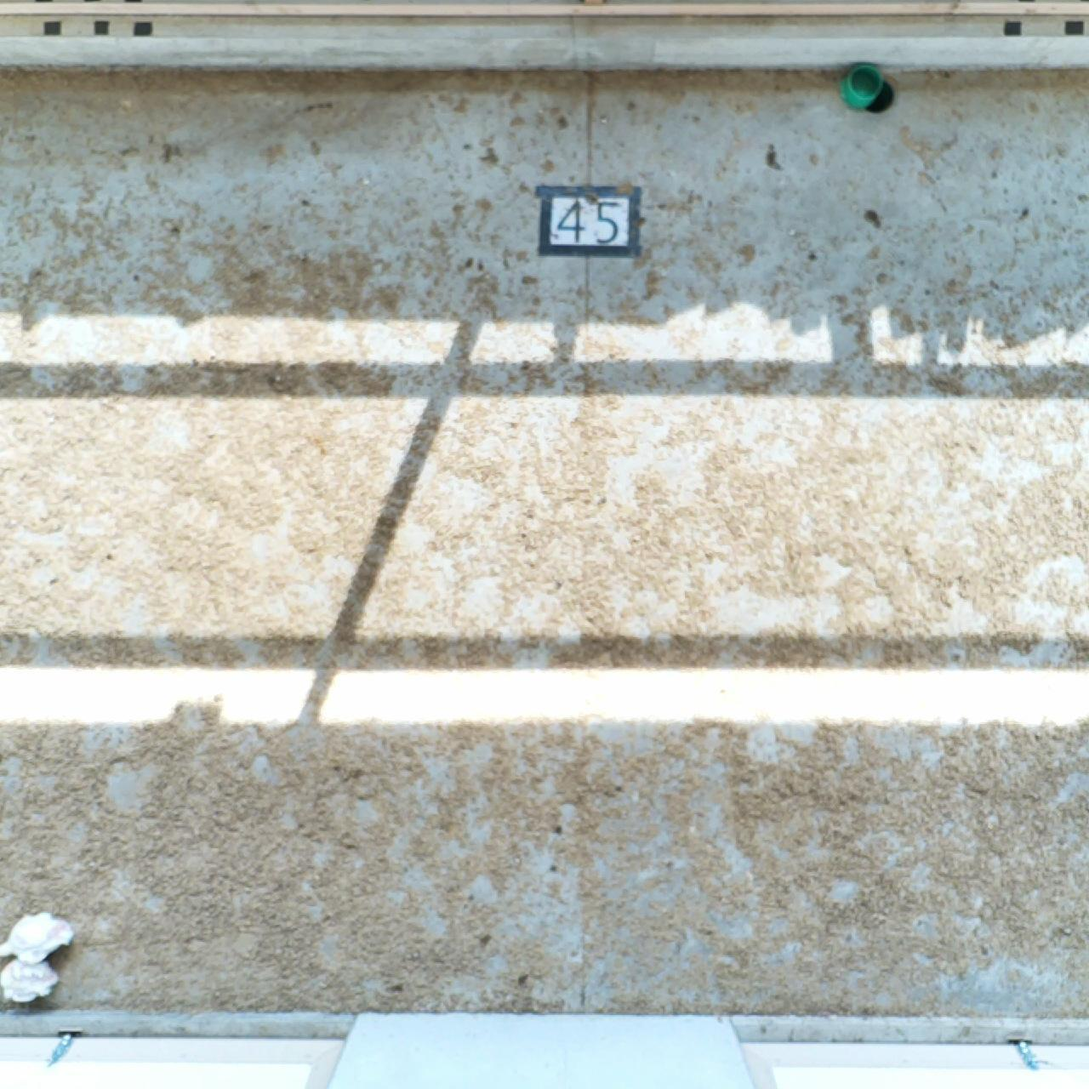chicken: (1, 911, 71, 961), (1, 961, 62, 1001)
